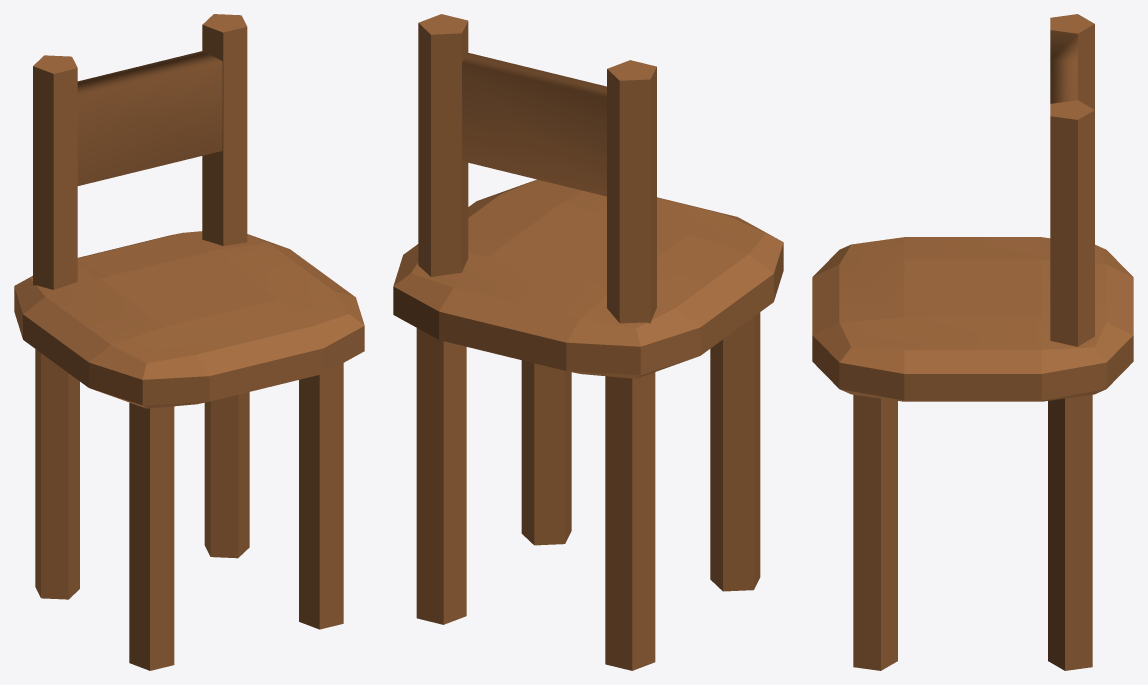
File: cadeiraprofessora.fbx
3 views of the same model, side by side, from view 1: azimuth 30°, elevation 25°; view 2: azimuth 150°, elevation 25°; view 3: azimuth 270°, elevation 25° (orthographic). The views are drawn at different scales.
Visible parts, largest first — view 1: Cylinder.001; view 2: Cylinder.001; view 3: Cylinder.001.
Boxes of the visible parts, left/top/right/bottom form: Cylinder.001: left=14, top=14, right=364, bottom=670; Cylinder.001: left=393, top=14, right=783, bottom=670; Cylinder.001: left=812, top=14, right=1133, bottom=670.
Size of the model in its own units: 489 by 925 by 489.
